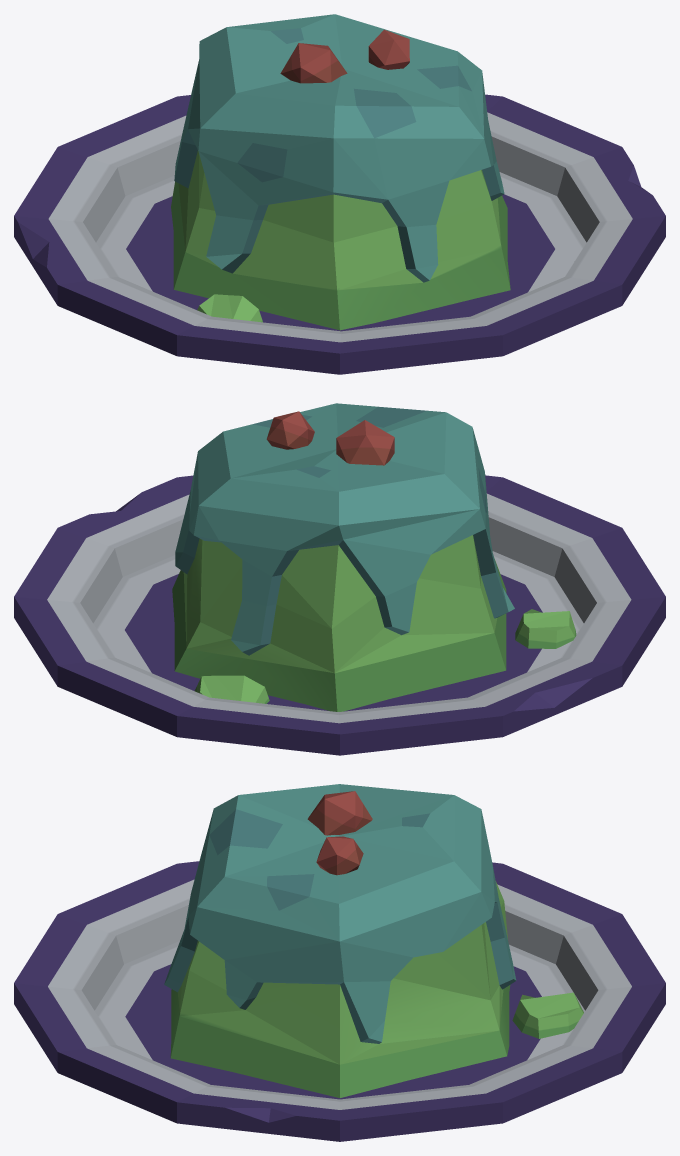
The model's file is SM_Prop_Food_Plates_03.fbx.
3 renders of one model, top to bottom at view 1: azimuth 30°, elevation 25°; view 2: azimuth 150°, elevation 25°; view 3: azimuth 270°, elevation 25°, orthographic.
Parts seen in each view (by area): view 1: SM_Prop_Food_Plates_03; view 2: SM_Prop_Food_Plates_03; view 3: SM_Prop_Food_Plates_03.
Boxes of the visible parts, x1,y1,x2,y2 form: SM_Prop_Food_Plates_03: (14, 14, 665, 374); SM_Prop_Food_Plates_03: (14, 403, 665, 755); SM_Prop_Food_Plates_03: (14, 784, 665, 1141).
Bounding box in the file's own units: 44.19 × 17.72 × 44.19.
